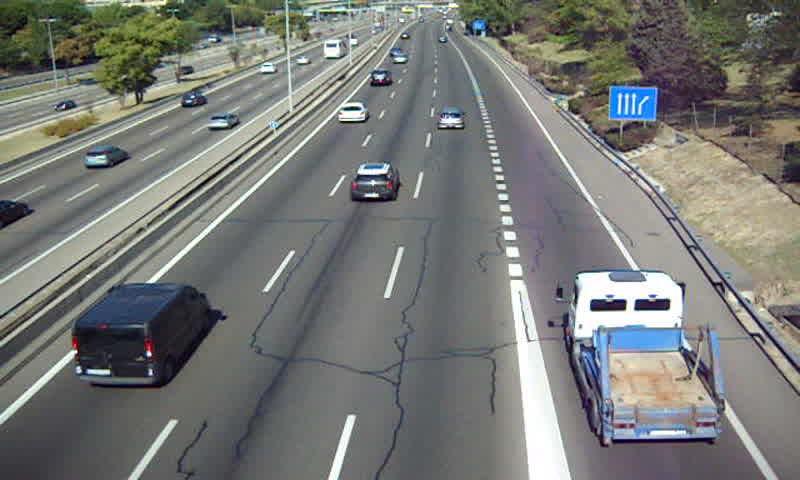car: (349, 162, 400, 202), (335, 103, 368, 124), (437, 109, 465, 131), (369, 69, 393, 87), (391, 53, 409, 66)
small-truck: (568, 272, 725, 446)
van: (74, 283, 209, 385)
